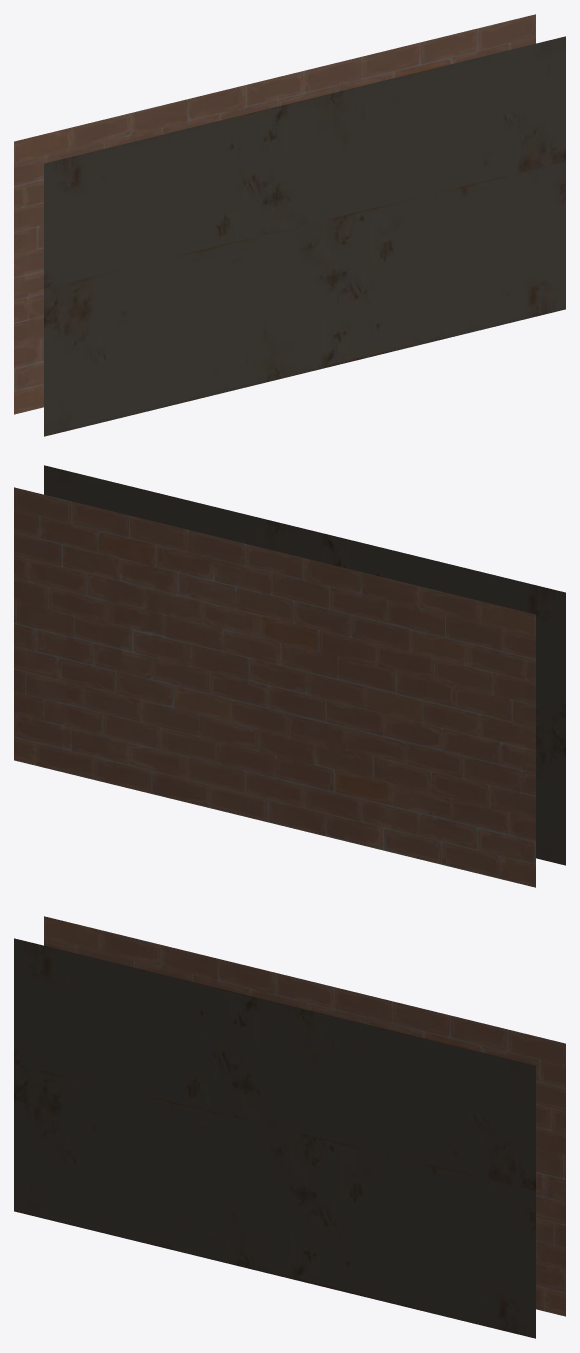
The model's file is Metal_Plain_1.glb.
3 views of the same model, one above another, from view 1: azimuth 30°, elevation 25°; view 2: azimuth 150°, elevation 25°; view 3: azimuth 330°, elevation 25° (orthographic).
Visible parts, largest first — view 1: Metal_Plain_1; view 2: Metal_Plain_1; view 3: Metal_Plain_1.
Part boxes in pixels (<box>): Metal_Plain_1: <box>14,14,565,436</box>; Metal_Plain_1: <box>14,465,565,887</box>; Metal_Plain_1: <box>14,916,565,1338</box>.
Bounding box in the file's own units: 2 × 1 × 0.2.
Materials: 2 (2 with a texture image).
